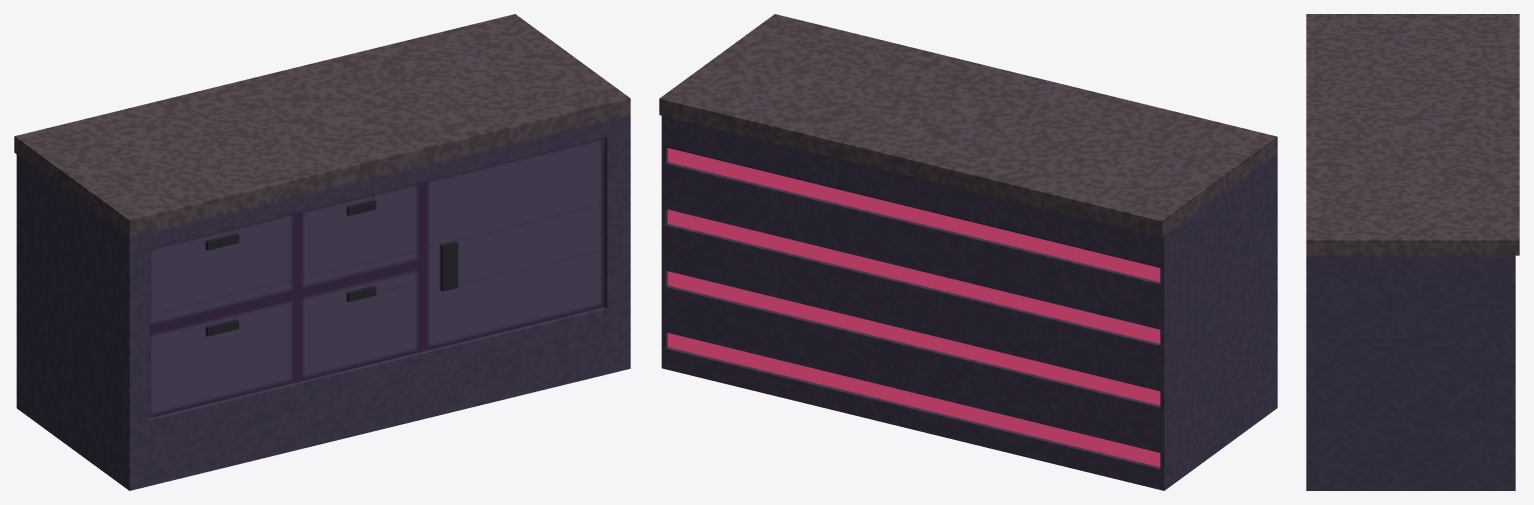
File: bar_I.dae
3 renders of one model, left to right at view 1: azimuth 30°, elevation 25°; view 2: azimuth 150°, elevation 25°; view 3: azimuth 270°, elevation 25°, orthographic. The views are drawn at different scales.
Parts seen in each view (by area): view 1: Content; view 2: Content; view 3: Content.
Boxes of the visible parts, bbox=[...] form: Content: bbox=[14, 14, 630, 490]; Content: bbox=[659, 14, 1277, 490]; Content: bbox=[1306, 14, 1519, 490].
Bounding box in the file's own units: 128 × 66 × 51.
1 material, 1 textured.
